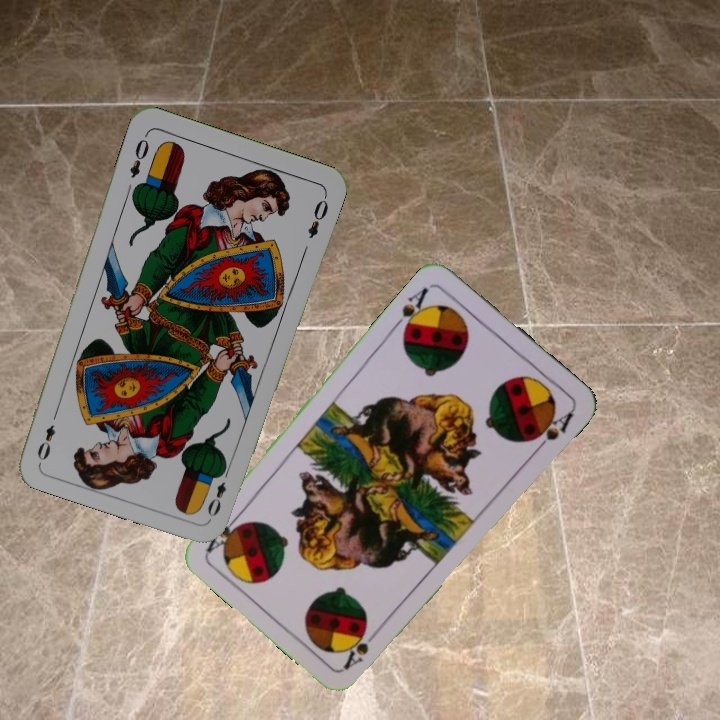EO: (203, 463, 233, 520), (125, 130, 152, 181)
SA: (390, 283, 432, 337), (339, 623, 384, 672)
